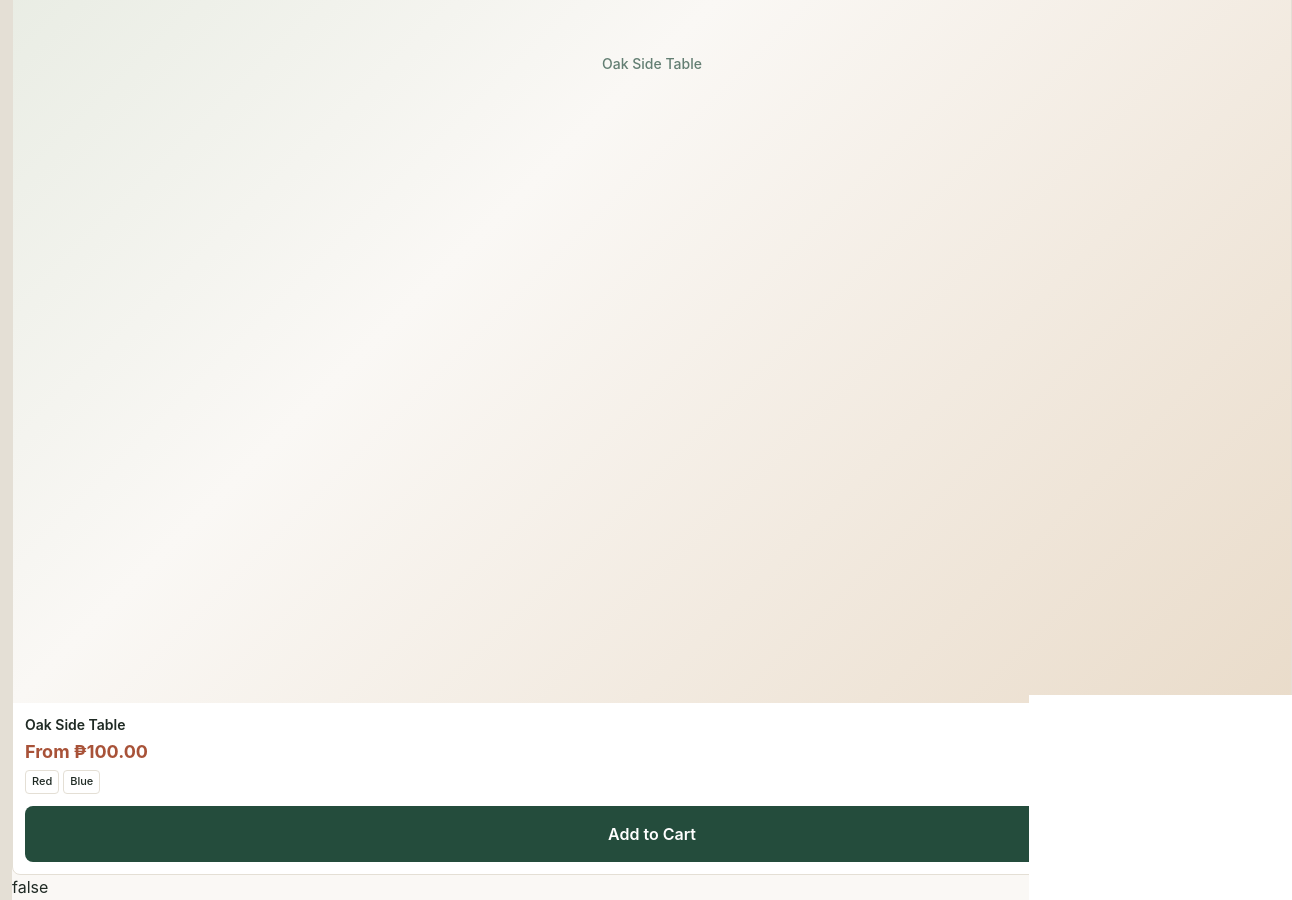
Test: ProductCard inline purchase › selects a SKU inline and opens the actual cart context on a successful add
(page scrolled)
Click the button "Blue" at coordinates (82, 782), box x1=63 y1=770 x2=100 y2=794
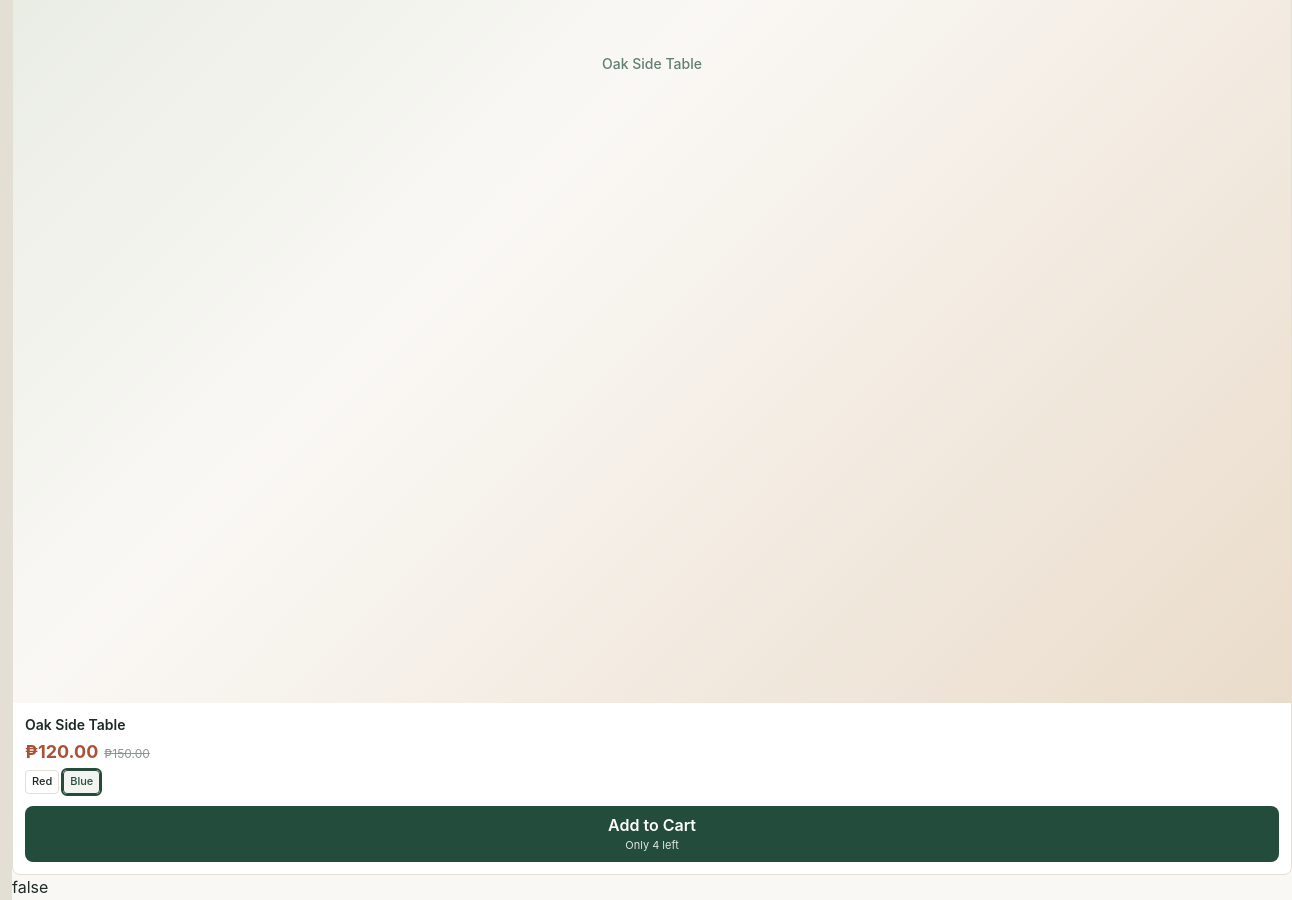
Expected: the text with test id "price" reads "₱120.00", x1=25 y1=741 x2=98 y2=762
Expected: the text "₱150.00" is shown, x1=104 y1=746 x2=150 y2=761
Click the button "Add to Cart Only 4 left" at coordinates (652, 834), box x1=25 y1=806 x2=1279 y2=862
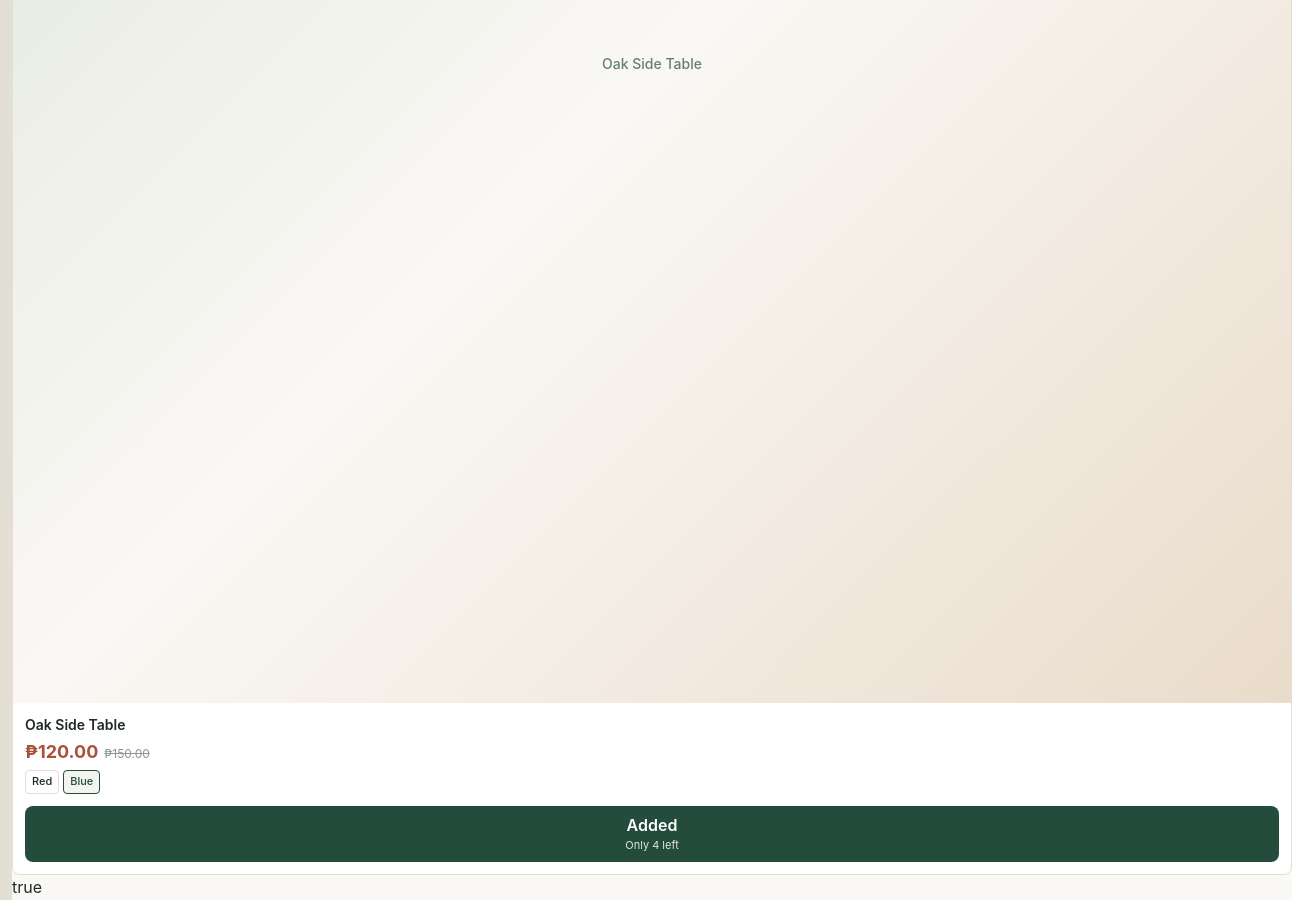
Expected: the button "Added Only 4 left" is shown, x1=25 y1=806 x2=1279 y2=862
Expected: the text with test id "card-cart-open" reads "true", x1=12 y1=876 x2=42 y2=896
